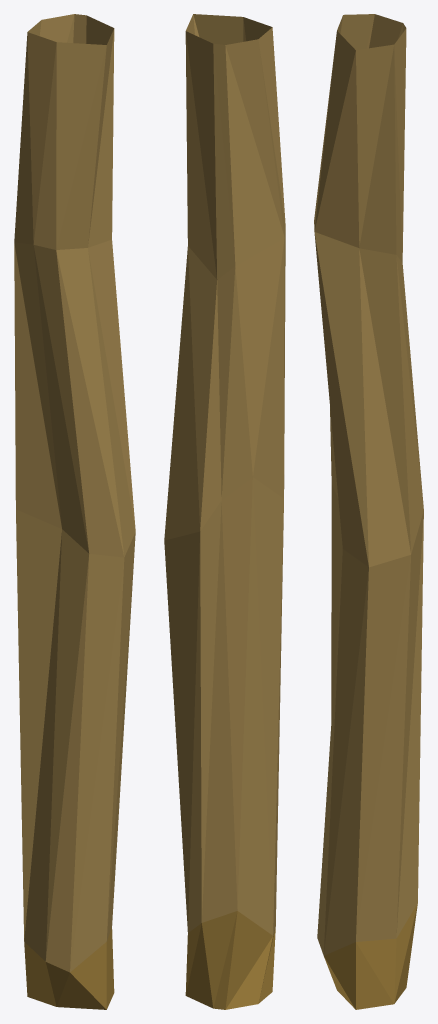
File: obj_bamboo_tree_3_0.obj
3 views of the same model, side by side, from view 1: azimuth 30°, elevation 25°; view 2: azimuth 210°, elevation 25°; view 3: azimuth 330°, elevation 25° (orthographic).
Size of the model in its own units: 0.2109 by 1.88 by 0.1641.
